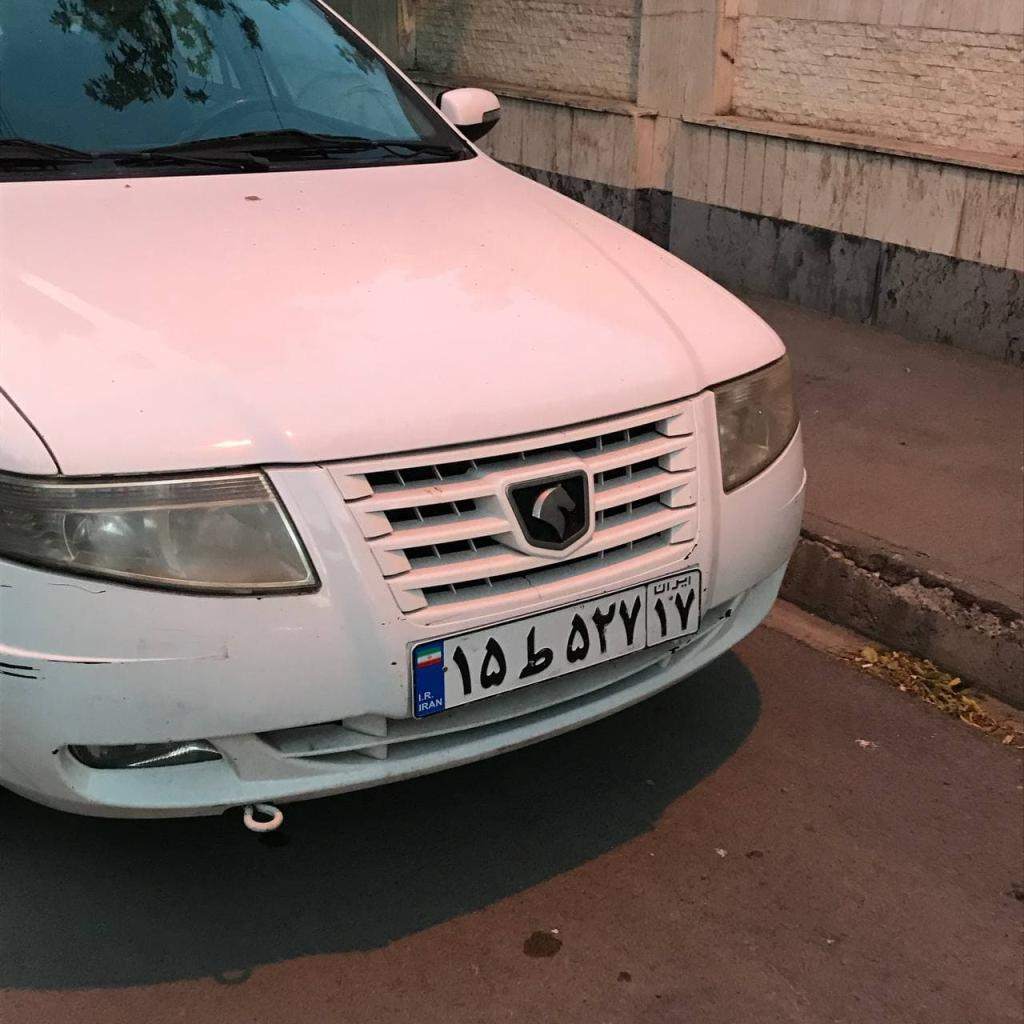Plates: (412, 569, 700, 718)
